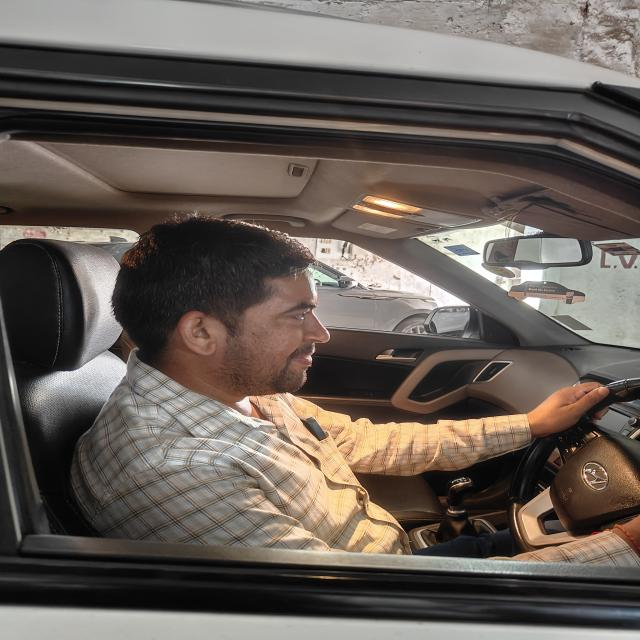no-seatbelt: (85, 356, 455, 582)
